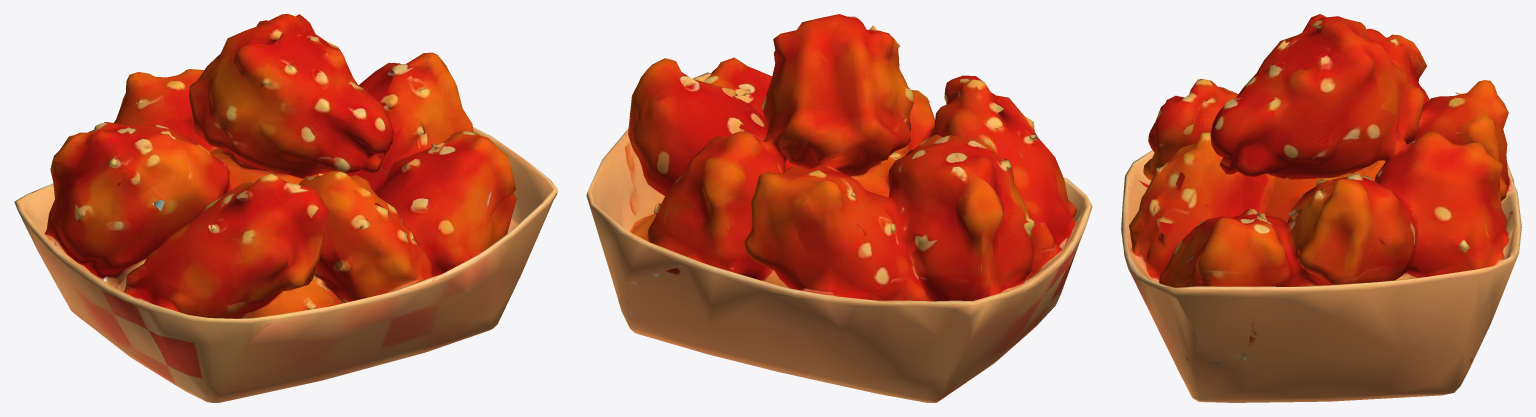
3 renders of one model, left to right at view 1: azimuth 30°, elevation 25°; view 2: azimuth 150°, elevation 25°; view 3: azimuth 270°, elevation 25°, orthographic. The views are drawn at different scales.
Visible parts, largest first — view 1: yangnyeom-chicken; view 2: yangnyeom-chicken; view 3: yangnyeom-chicken.
Boxes of the visible parts, x1=… form: yangnyeom-chicken: x1=14, y1=14, x2=557, y2=402; yangnyeom-chicken: x1=586, y1=14, x2=1092, y2=402; yangnyeom-chicken: x1=1121, y1=14, x2=1521, y2=402.
Bounding box in the file's own units: 0.1997 × 0.14 × 0.1636.
Materials: 1 (1 with a texture image).
